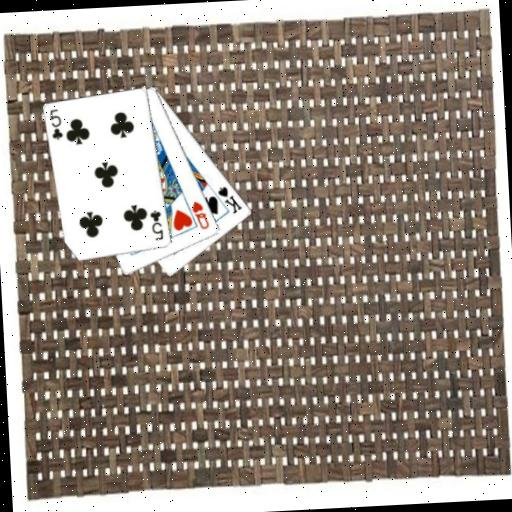5C: (147, 207, 166, 243), (47, 107, 65, 143)
KS: (215, 182, 245, 216)
QH: (189, 197, 211, 232)
